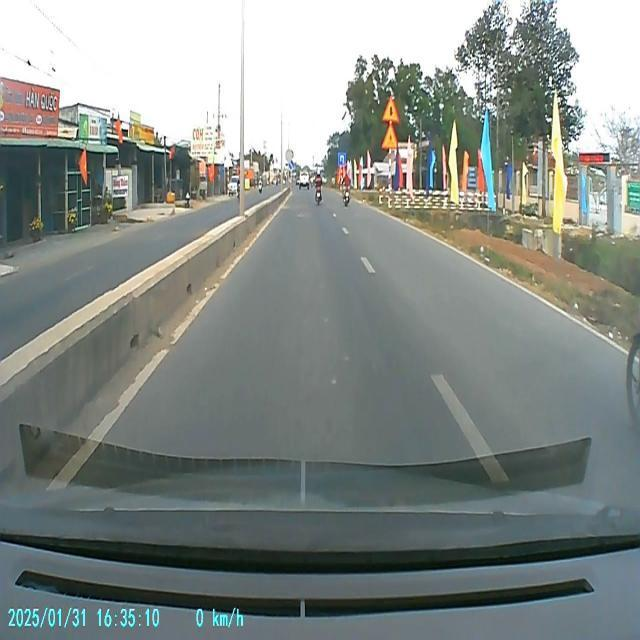207-giao-nhau-voi-duong-khong-uu-tien: (382, 94, 399, 125)
224-duong-nguoi-di-bo-cat-ngang: (380, 126, 400, 150)
302a-huong-phai-di-vong-chuong-ngai-vat-1: (288, 160, 294, 170)
